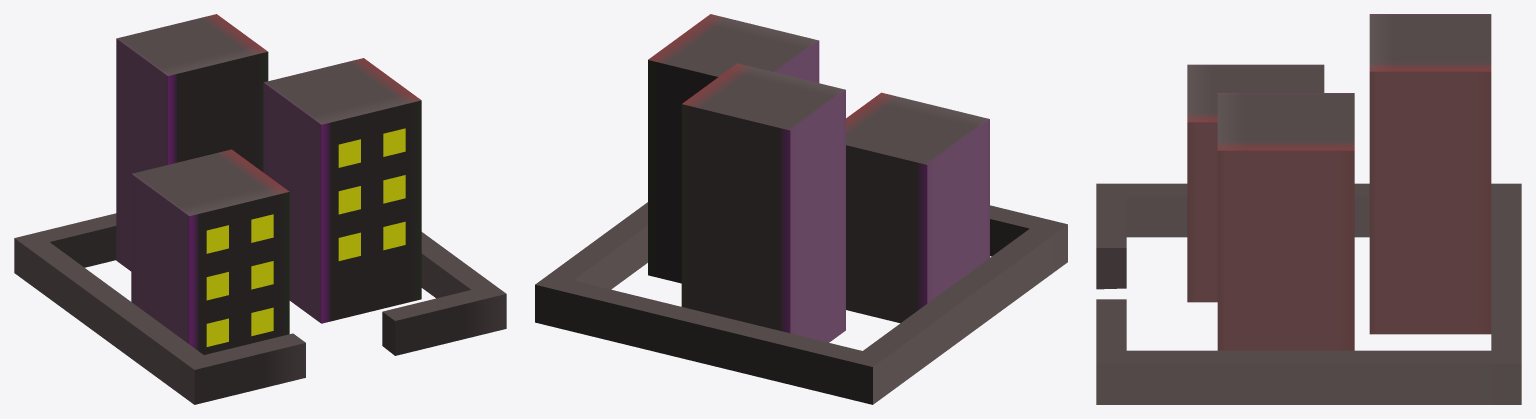
File: City.NoirEclipse.glb
3 views of the same model, side by side, from view 1: azimuth 30°, elevation 25°; view 2: azimuth 150°, elevation 25°; view 3: azimuth 270°, elevation 25° (orthographic). The views are drawn at different scales.
Visible parts, largest first — view 1: City.NoirEclipse; view 2: City.NoirEclipse; view 3: City.NoirEclipse.
Boxes of the visible parts, bbox=[...] form: City.NoirEclipse: bbox=[14, 14, 506, 404]; City.NoirEclipse: bbox=[535, 14, 1067, 404]; City.NoirEclipse: bbox=[1096, 14, 1521, 404].
Size of the model in its own units: 2.8 by 1.91 by 2.8.
Materials: 2 (1 with a texture image).
